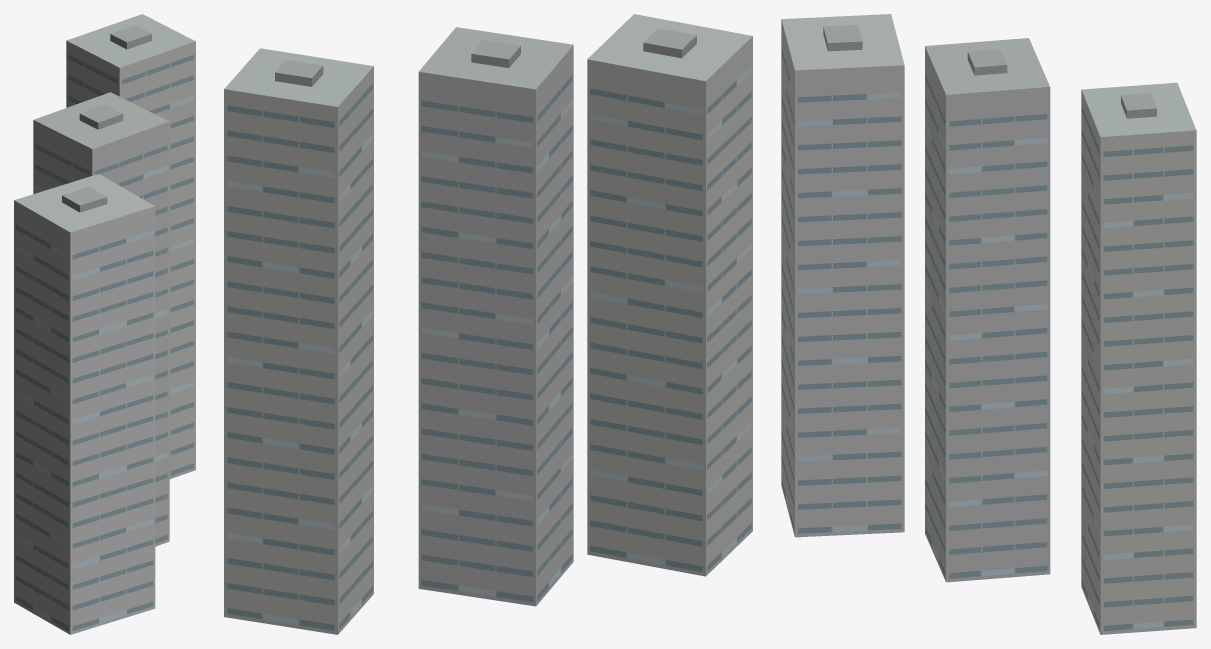
Rendered from apt-a14001303.glb.
3 renders of one model, left to right at view 1: azimuth 30°, elevation 25°; view 2: azimuth 150°, elevation 25°; view 3: azimuth 270°, elevation 25°, orthographic. The views are drawn at different scales.
Visible parts, largest first — view 1: apt-a14001303; view 2: apt-a14001303; view 3: apt-a14001303.
Boxes of the visible parts, x1=… form: apt-a14001303: x1=14, y1=14, x2=195, y2=634; apt-a14001303: x1=224, y1=14, x2=752, y2=634; apt-a14001303: x1=781, y1=14, x2=1196, y2=634.
Bounding box in the file's own units: 96.6 × 148 × 110.
